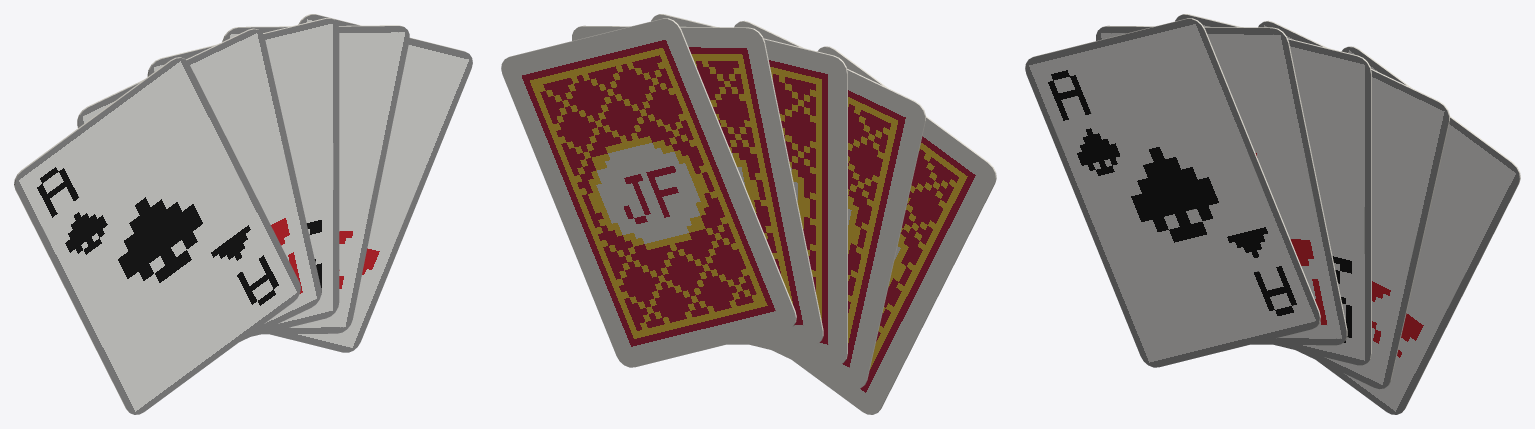
The model's file is w_cards.glb.
3 views of the same model, side by side, from view 1: azimuth 30°, elevation 25°; view 2: azimuth 150°, elevation 25°; view 3: azimuth 330°, elevation 25° (orthographic). The views are drawn at different scales.
Visible parts, largest first — view 1: card0, card1, card2, card3, card4, card0_back; view 2: card4_back, card3_back, card2_back, card1_back, card0_back; view 3: card0, card1, card2, card3, card4, card0_back, card1_back, card3_back, card4_back, card2_back.
Part boxes in pixels (left/top/right/bottom): card0: left=15, top=58, right=300, bottom=414; card1: left=78, top=29, right=321, bottom=341; card2: left=148, top=18, right=339, bottom=336; card3: left=223, top=26, right=409, bottom=334; card4: left=270, top=14, right=472, bottom=352; card0_back: left=14, top=57, right=184, bottom=412; card4_back: left=501, top=18, right=796, bottom=367; card3_back: left=572, top=25, right=823, bottom=345; card2_back: left=651, top=14, right=847, bottom=365; card1_back: left=734, top=20, right=925, bottom=389; card0_back: left=792, top=46, right=996, bottom=414; card0: left=1025, top=19, right=1319, bottom=367; card1: left=1096, top=26, right=1346, bottom=345; card2: left=1175, top=14, right=1370, bottom=365; card3: left=1258, top=21, right=1448, bottom=389; card4: left=1316, top=47, right=1519, bottom=414; card0_back: left=1031, top=18, right=1320, bottom=326; card1_back: left=1102, top=25, right=1347, bottom=340; card3_back: left=1263, top=20, right=1449, bottom=385; card4_back: left=1344, top=46, right=1520, bottom=412; card2_back: left=1179, top=14, right=1371, bottom=362.
Bounding box in the file's own units: 0.1965 × 0.142 × 0.0087.
Materials: 7 (6 with a texture image).
